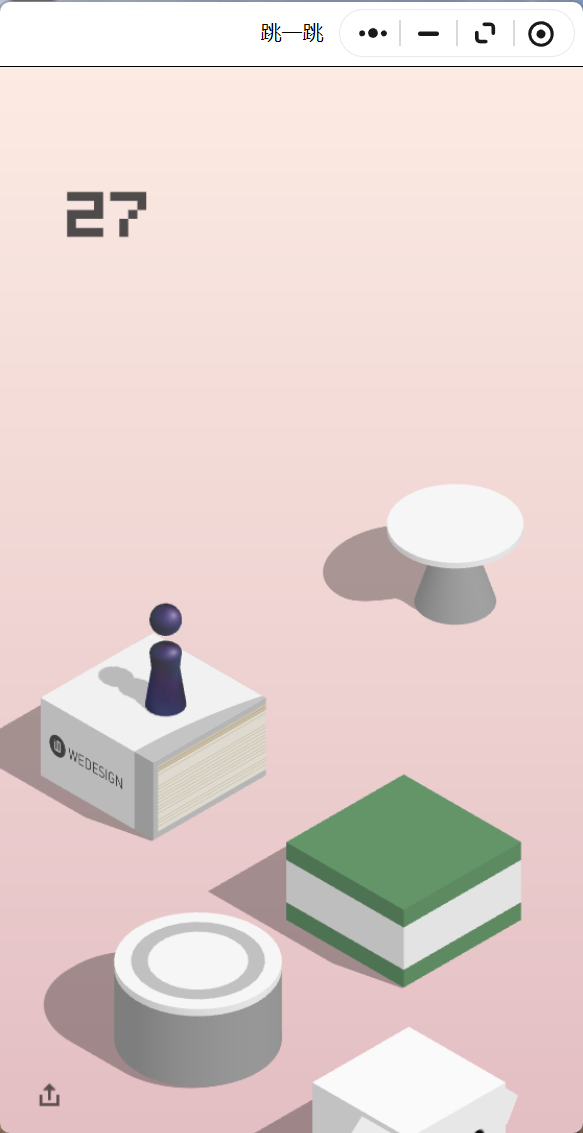piece: (149, 604, 181, 712)
target: (387, 484, 523, 562)
